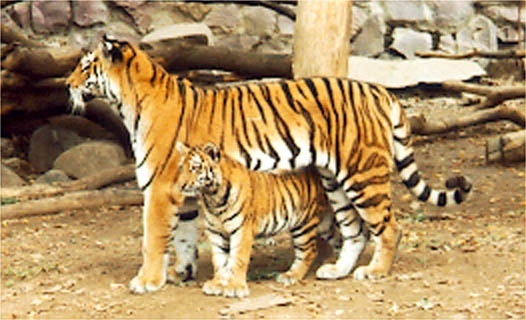tigre: (64, 36, 474, 295), (175, 142, 333, 298)
